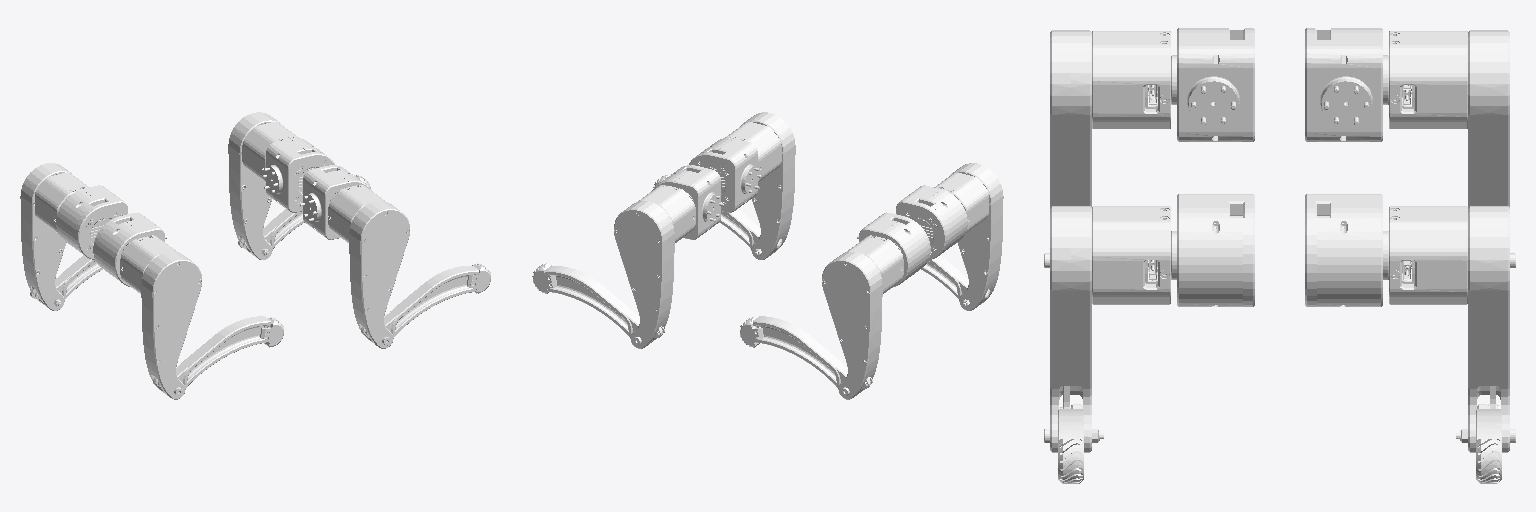
robot.urdf — htdw_4438:
<?xml version="1.0" encoding="utf-8"?>
<!-- 四足机器人URDF主文件 | 名称：htdw_4438 | 命名：fl前左/fr前右/rl后左/rr后右 | 肢体：hip髋/thigh大腿/calf小腿/foot脚 | 关节：revolute旋转/fixed固定 -->
<robot name="htdw_4438">
  <mujoco>
    <compiler 
      meshdir="[local-path]/Documents/GitHub/Lain_isaacgym/resources/robots/htdw_4438/meshes" 
      balanceinertia="true" 
      discardvisual="false" />
  </mujoco>
  <!-- 全局复用材质：白色不透明 -->
  <material name="white_material">
    <color rgba="1 1 1 1" />
  </material>

  <!-- 基座连杆：机器人核心躯干 -->
  <link name="base_link">
    <inertial>
      <origin xyz="-0.00139370 0.00012462 0.01353999" rpy="0 0 0" />
      <mass value="2.68214792" />
      <inertia ixx="0.00676934" ixy="-0.00002413" ixz="0.00027724" iyy="0.01195702" iyz="0.00003879" izz="0.01215361" />
    </inertial>
    <visual>
      <origin xyz="0 0 0" rpy="0 0 0" />
      <geometry>
        <mesh filename="../meshes/base_link_simple.STL" />
      </geometry>
      <material name="white_material" />
    </visual>
    <collision>
      <origin xyz="0 0 0.025" rpy="0 0 0" />
      <geometry>
        <box size="0.17 0.09 0.138" />
      </geometry>
    </collision>
  </link>

  <!-- 前左腿FL - 髋部：连杆+关节（基座→前左髋） -->
  <link name="fl_hip">
    <inertial>
      <origin xyz="0.03269580 0.00444394  -0.00009507" rpy="0 0 0" />
      <mass value="0.29235822" />
      <inertia ixx="0.00008921" ixy="-0.00004438" ixz="0.00000113" iyy="0.00040664" iyz="0.00000010" izz="0.00040549" />
    </inertial>
    <visual>
      <origin xyz="0 0 0" rpy="0 0 0" />
      <geometry>
        <mesh filename="../meshes/FL_hip.STL" />
      </geometry>
      <material name="white_material" />
    </visual>
    <collision>
      <origin xyz="0.035 0 0" rpy="1.56 1.56 0" />
      <geometry>
        <cylinder length="0.045" radius="0.03" />
      </geometry>
    </collision>
  </link>
  <joint name="fl_hip_joint" type="revolute">
    <origin xyz="0.0909 0.04 0" rpy="0 0 0" />
    <parent link="base_link" />
    <child link="fl_hip" />
    <axis xyz="1 0 0" />
    <limit lower="-0.9" upper="0.9" effort="10" velocity="9.95" initial="0"/>
  </joint>

  <!-- 前左腿FL - 大腿：连杆+关节（前左髋→前左大腿） -->
  <link name="fl_thigh">
    <inertial>
      <origin xyz="-0.00137569 0.03790927 -0.01165342" rpy="0 0 0" />
      <mass value="0.41040818" />
      <inertia ixx="0.00122480" ixy="0.00003407" ixz="-0.00003634" iyy="0.00056530" iyz="0.00028736" izz="0.00079023" />
    </inertial>
    <visual>
      <origin xyz="0 0 0" rpy="0 0 0" />
      <geometry>
        <mesh filename="../meshes/FL_thigh.STL" />
      </geometry>
      <material name="white_material" />
    </visual>
    <collision>
      <origin xyz="0.004 0.06 -0.045" rpy="0 0.35 0" />
      <geometry>
        <box size="0.02 0.025 0.10" />
      </geometry>
    </collision>
  </link>
  <joint name="fl_thigh_joint" type="revolute">
    <origin xyz="0.034 0.0254 0" rpy="0 0 0" />
    <parent link="fl_hip" />
    <child link="fl_thigh" />
    <axis xyz="0 1 0" />
    <limit lower="-1.5" upper="3.5" effort="10" velocity="9.95" initial="0.9"/>
  </joint>

  <!-- 前左腿FL - 小腿：连杆+关节（前左大腿→前左小腿） -->
  <link name="fl_calf">
    <inertial>
      <origin xyz="0.01082722 -0.00011477 -0.05285719" rpy="0 0 0" />
      <mass value="0.04033111" />
      <inertia ixx="0.00017694" ixy="0.00000005" ixz="0.00002974" iyy="0.00018413" iyz="0.00000004" izz="0.00000842" />
    </inertial>
    <visual>
      <origin xyz="0 0 0" rpy="0 0 0" />
      <geometry>
        <mesh filename="../meshes/FL_calf.STL" />
      </geometry>
      <material name="white_material" />
    </visual>
    <collision>
      <origin xyz="0.013 0 -0.05" rpy="0 -0.2 0" />
      <geometry>
        <cylinder length="0.1" radius="0.01" />
      </geometry>
    </collision>
  </link>
  <joint name="fl_calf_joint" type="revolute">
    <origin xyz="0 0.0604 -0.12" rpy="0 0 0" />
    <parent link="fl_thigh" />
    <child link="fl_calf" />
    <axis xyz="0 1 0" />
    <limit lower="-2.5" upper="-1.2" effort="10" velocity="9.95" initial="-1.8"/>
  </joint>

  <!-- 前左腿FL - 脚部：连杆+固定关节（前左小腿→前左脚） -->
  <link name="fl_foot">
    <inertial>
      <origin xyz="0.00384334 -0.00065935 0.01540433" rpy="0 0 0" />
      <mass value="0.00657865" />
      <inertia ixx="0.00000202" ixy="0.00000003" ixz="-0.00000043" iyy="0.00000222" iyz="0.00000009" izz="0.00000049" />
    </inertial>
    <visual>
      <origin xyz="0 0 0" rpy="0 0 0" />
      <geometry>
        <mesh filename="../meshes/FL_foot.STL" />
      </geometry>
      <material name="white_material" />
    </visual>
    <collision>
      <origin xyz="0.0025 0 0.0127" rpy="0 0 0" />
      <geometry>
        <sphere radius="0.015" />
      </geometry>
    </collision>
  </link>
  <joint name="fl_foot_joint" type="fixed" dont_collapse="true">
    <origin xyz="0.00206 0.00006 -0.13694" rpy="0 0 0" />
    <parent link="fl_calf" />
    <child link="fl_foot" />
  </joint>

  <!-- 前右腿FR - 髋部：连杆+关节（基座→前右髋） -->
  <link name="fr_hip">
    <inertial>
      <origin xyz="0.03269580 -0.00444394 0.00009507" rpy="0 0 0" />
      <mass value="0.29235822" />
      <inertia ixx="0.00008921" ixy="0.00004438" ixz="-0.00000113" iyy="0.00040664" iyz="0.00000010" izz="0.00040549" />
    </inertial>
    <visual>
      <origin xyz="0 0 0" rpy="0 0 0" />
      <geometry>
        <mesh filename="../meshes/FR_hip.STL" />
      </geometry>
      <material name="white_material" />
    </visual>
    <collision>
      <origin xyz="0.035 0 0" rpy="1.56 1.56 0" />
      <geometry>
        <cylinder length="0.045" radius="0.03" />
      </geometry>
    </collision>
  </link>
  <joint name="fr_hip_joint" type="revolute">
    <origin xyz="0.0909 -0.04 0" rpy="0 0 0" />
    <parent link="base_link" />
    <child link="fr_hip" />
    <axis xyz="1 0 0" />
    <limit lower="-0.9" upper="0.9" effort="10" velocity="9.95" initial="0.0"/>
  </joint>

  <!-- 前右腿FR - 大腿：连杆+关节（前右髋→前右大腿） -->
  <link name="fr_thigh">
    <inertial>
      <origin xyz="-0.00130371 -0.03791280 -0.01155686" rpy="0 0 0" />
      <mass value="0.41040818" />
      <inertia ixx="0.00122504" ixy="-0.00003226" ixz="-0.00003331" iyy="0.00056452" iyz="-0.00028624" izz="0.00078957" />
    </inertial>
    <visual>
      <origin xyz="0 0 0" rpy="0 0 0" />
      <geometry>
        <mesh filename="../meshes/FR_thigh.STL" />
      </geometry>
      <material name="white_material" />
    </visual>
    <collision>
      <origin xyz="0.004 -0.06 -0.045" rpy="0 0.35 0" />
      <geometry>
        <box size="0.02 0.025 0.10" />
      </geometry>
    </collision>
  </link>
  <joint name="fr_thigh_joint" type="revolute">
    <origin xyz="0.034 -0.0254 0" rpy="0 0 0" />
    <parent link="fr_hip" />
    <child link="fr_thigh" />
    <axis xyz="0 1 0" />
    <limit lower="-1.5" upper="3.5" effort="10" velocity="9.95" initial="0.9"/>
  </joint>

  <!-- 前右腿FR - 小腿：连杆+关节（前右大腿→前右小腿） -->
  <link name="fr_calf">
    <inertial>
      <origin xyz="0.01085394 0.00011547 -0.05299045" rpy="0 0 0" />
      <mass value="0.04033111" />
      <inertia ixx="0.00017737" ixy="-0.00000005" ixz="0.00002982" iyy="0.00018459" iyz="-0.00000004" izz="0.00000843" />
    </inertial>
    <visual>
      <origin xyz="0 0 0" rpy="0 0 0" />
      <geometry>
        <mesh filename="../meshes/FR_calf.STL" />
      </geometry>
      <material name="white_material" />
    </visual>
    <collision>
      <origin xyz="0.013 0 -0.05" rpy="0 -0.2 0" />
      <geometry>
        <cylinder length="0.1" radius="0.01" />
      </geometry>
    </collision>
  </link>
  <joint name="fr_calf_joint" type="revolute">
    <origin xyz="0 -0.0604 -0.12" rpy="0 0 0" />
    <parent link="fr_thigh" />
    <child link="fr_calf" />
    <axis xyz="0 1 0" />
    <limit lower="-2.5" upper="-1.2" effort="10" velocity="9.95" initial="-1.8"/>
  </joint>

  <!-- 前右腿FR - 脚部：连杆+固定关节（前右小腿→前右脚） -->
  <link name="fr_foot">
    <inertial>
      <origin xyz="0.00384334 -0.00065935 0.01540433" rpy="0 0 0" />
      <mass value="0.00657865" />
      <inertia ixx="0.00000202" ixy="0.00000003" ixz="-0.00000043" iyy="0.00000222" iyz="0.00000009" izz="0.00000049" />
    </inertial>
    <visual>
      <origin xyz="0 0 0" rpy="0 0 0" />
      <geometry>
        <mesh filename="../meshes/FR_foot.STL" />
      </geometry>
      <material name="white_material" />
    </visual>
    <collision>
      <origin xyz="0.0025 0 0.0127" rpy="0 0 0" />
      <geometry>
        <sphere radius="0.015" />
      </geometry>
    </collision>
  </link>
  <joint name="fr_foot_joint" type="fixed" dont_collapse="true">
    <origin xyz="0.00206 0.00006 -0.13694" rpy="0 0 0" />
    <parent link="fr_calf" />
    <child link="fr_foot" />
  </joint>

  <!-- 后左腿RL - 髋部：连杆+关节（基座→后左髋） -->
  <link name="rl_hip">
    <inertial>
      <origin xyz="-0.03269580 0.00444394 0.00009507" rpy="0 0 0" />
      <mass value="0.29235822" />
      <inertia ixx="0.00008921" ixy="0.00004438" ixz="0.00000113" iyy="0.00040664" iyz="-0.00000010" izz="0.00040549" />
    </inertial>
    <visual>
      <origin xyz="0 0 0" rpy="0 0 0" />
      <geometry>
        <mesh filename="../meshes/RL_hip.STL" />
      </geometry>
      <material name="white_material" />
    </visual>
    <collision>
      <origin xyz="-0.035 0 0" rpy="1.56 1.56 0" />
      <geometry>
        <cylinder length="0.045" radius="0.03" />
      </geometry>
    </collision>
  </link>
  <joint name="rl_hip_joint" type="revolute">
    <origin xyz="-0.0909 0.04 0" rpy="0 0 0" />
    <parent link="base_link" />
    <child link="rl_hip" />
    <axis xyz="1 0 0" />
    <limit lower="-0.9" upper="0.9" effort="10" velocity="9.95" initial="0"/>
  </joint>

  <!-- 后左腿RL - 大腿：连杆+关节（后左髋→后左大腿） -->
  <link name="rl_thigh">
    <inertial>
      <origin xyz="-0.00137569 0.03790927 -0.01165342" rpy="0 0 0" />
      <mass value="0.41040818" />
      <inertia ixx="0.00122480" ixy="0.00003407" ixz="-0.00003634" iyy="0.00056530" iyz="0.00028736" izz="0.00079023" />
    </inertial>
    <visual>
      <origin xyz="0 0 0" rpy="0 0 0" />
      <geometry>
        <mesh filename="../meshes/RL_thigh.STL" />
      </geometry>
      <material name="white_material" />
    </visual>
    <collision>
      <origin xyz="0.004 0.06 -0.045" rpy="0 0.35 0" />
      <geometry>
        <box size="0.02 0.025 0.10" />
      </geometry>
    </collision>
  </link>
  <joint name="rl_thigh_joint" type="revolute">
    <origin xyz="-0.034 0.0254 0" rpy="0 0 0" />
    <parent link="rl_hip" />
    <child link="rl_thigh" />
    <axis xyz="0 1 0" />
    <limit lower="-1.5" upper="3.5" effort="10" velocity="9.95" initial="0.9"/>
  </joint>

  <!-- 后左腿RL - 小腿：连杆+关节（后左大腿→后左小腿） -->
  <link name="rl_calf">
    <inertial>
      <origin xyz="0.01082722 -0.00011477 -0.05285719" rpy="0 0 0" />
      <mass value="0.04033111" />
      <inertia ixx="0.00017694" ixy="0.00000005" ixz="0.00002974" iyy="0.00018413" iyz="0.00000004" izz="0.00000842" />
    </inertial>
    <visual>
      <origin xyz="0 0 0" rpy="0 0 0" />
      <geometry>
        <mesh filename="../meshes/RL_calf.STL" />
      </geometry>
      <material name="white_material" />
    </visual>
    <collision>
      <origin xyz="0.013 0 -0.05" rpy="0 -0.2 0" />
      <geometry>
        <cylinder length="0.1" radius="0.01" />
      </geometry>
    </collision>
  </link>
  <joint name="rl_calf_joint" type="revolute">
    <origin xyz="0 0.0604 -0.12" rpy="0 0 0" />
    <parent link="rl_thigh" />
    <child link="rl_calf" />
    <axis xyz="0 1 0" />
    <limit lower="-2.5" upper="-1.2" effort="10" velocity="9.95" initial="-1.8"/>
  </joint>

  <!-- 后左腿RL - 脚部：连杆+固定关节（后左小腿→后左脚） -->
  <link name="rl_foot">
    <inertial>
      <origin xyz="0.00384334 -0.00065935 0.01540433" rpy="0 0 0" />
      <mass value="0.00657865" />
      <inertia ixx="0.00000202" ixy="0.00000003" ixz="-0.00000043" iyy="0.00000222" iyz="0.00000009" izz="0.00000049" />
    </inertial>
    <visual>
      <origin xyz="0 0 0" rpy="0 0 0" />
      <geometry>
        <mesh filename="../meshes/RL_foot.STL" />
      </geometry>
      <material name="white_material" />
    </visual>
    <collision>
      <origin xyz="0.0025 0 0.0127" rpy="0 0 0" />
      <geometry>
        <sphere radius="0.015" />
      </geometry>
    </collision>
  </link>
  <joint name="rl_foot_joint" type="fixed" dont_collapse="true">
    <origin xyz="-0.00206 0.00006 -0.13694" rpy="0 0 0" />
    <parent link="rl_calf" />
    <child link="rl_foot" />
  </joint>

  <!-- 后右腿RR - 髋部：连杆+关节（基座→后右髋） -->
  <link name="rr_hip">
    <inertial>
      <origin xyz="-0.03269580 -0.00444394 -0.00009507" rpy="0 0 0" />
      <mass value="0.29235822" />
      <inertia ixx="0.00008921" ixy="-0.00004438" ixz="-0.00000113" iyy="0.00040664" iyz="-0.00000010" izz="0.00040549" />
    </inertial>
    <visual>
      <origin xyz="0 0 0" rpy="0 0 0" />
      <geometry>
        <mesh filename="../meshes/RR_hip.STL" />
      </geometry>
      <material name="white_material" />
    </visual>
    <collision>
      <origin xyz="-0.035 0 0" rpy="1.56 1.56 0" />
      <geometry>
        <cylinder length="0.045" radius="0.03" />
      </geometry>
    </collision>
  </link>
  <joint name="rr_hip_joint" type="revolute">
    <origin xyz="-0.0909 -0.04 0" rpy="0 0 0" />
    <parent link="base_link" />
    <child link="rr_hip" />
    <axis xyz="1 0 0" />
    <limit lower="-0.9" upper="0.9" effort="10" velocity="9.95" initial="0"/>
  </joint>

  <!-- 后右腿RR - 大腿：连杆+关节（后右髋→后右大腿） -->
  <link name="rr_thigh">
    <inertial>
      <origin xyz="-0.00130371 -0.03791280 -0.01155686" rpy="0 0 0" />
      <mass value="0.41040818" />
      <inertia ixx="0.00122504" ixy="-0.00003226" ixz="-0.00003331" iyy="0.00056452" iyz="-0.00028624" izz="0.00078957" />
    </inertial>
    <visual>
      <origin xyz="0 0 0" rpy="0 0 0" />
      <geometry>
        <mesh filename="../meshes/RR_thigh.STL" />
      </geometry>
      <material name="white_material" />
    </visual>
    <collision>
      <origin xyz="0.004 -0.06 -0.045" rpy="0 0.35 0" />
      <geometry>
        <box size="0.02 0.025 0.10" />
      </geometry>
    </collision>
  </link>
  <joint name="rr_thigh_joint" type="revolute">
    <origin xyz="-0.034 -0.0254 0" rpy="0 0 0" />
    <parent link="rr_hip" />
    <child link="rr_thigh" />
    <axis xyz="0 1 0" />
    <limit lower="-1.5" upper="3.5" effort="10" velocity="9.95" initial="0.9"/>
  </joint>

  <!-- 后右腿RR - 小腿：连杆+关节（后右大腿→后右小腿） -->
  <link name="rr_calf">
    <inertial>
      <origin xyz="0.01085394 0.00011547 -0.05299045" rpy="0 0 0" />
      <mass value="0.04033111" />
      <inertia ixx="0.00017737" ixy="-0.00000005" ixz="0.00002982" iyy="0.00018459" iyz="-0.00000004" izz="0.00000843" />
    </inertial>
    <visual>
      <origin xyz="0 0 0" rpy="0 0 0" />
      <geometry>
        <mesh filename="../meshes/RR_calf.STL" />
      </geometry>
      <material name="white_material" />
    </visual>
    <collision>
      <origin xyz="0.013 0 -0.05" rpy="0 -0.2 0" />
      <geometry>
        <cylinder length="0.1" radius="0.01" />
      </geometry>
    </collision>
  </link>
  <joint name="rr_calf_joint" type="revolute">
    <origin xyz="0 -0.0604 -0.12" rpy="0 0 0" />
    <parent link="rr_thigh" />
    <child link="rr_calf" />
    <axis xyz="0 1 0" />
    <limit lower="-2.5" upper="-1.2" effort="10" velocity="9.95" initial="-1.8"/>
  </joint>

  <!-- 后右腿RR - 脚部：连杆+固定关节（后右小腿→后右脚） -->
  <link name="rr_foot">
    <inertial>
      <origin xyz="0.00384334 -0.00065935 0.01540433" rpy="0 0 0" />
      <mass value="0.00657865" />
      <inertia ixx="0.00000202" ixy="0.00000003" ixz="-0.00000043" iyy="0.00000222" iyz="0.00000009" izz="0.00000049" />
    </inertial>
    <visual>
      <origin xyz="0 0 0" rpy="0 0 0" />
      <geometry>
        <mesh filename="../meshes/RR_foot.STL" />
      </geometry>
      <material name="white_material" />
    </visual>
    <collision>
      <origin xyz="0.0025 0 0.0127" rpy="0 0 0" />
      <geometry>
        <sphere radius="0.015" />
      </geometry>
    </collision>
  </link>
  <joint name="rr_foot_joint" type="fixed" dont_collapse="true">
    <origin xyz="-0.00206 0.00006 -0.13694" rpy="0 0 0" />
    <parent link="rr_calf" />
    <child link="rr_foot" />
  </joint>

</robot>

--- Facts derived from the render (not from the file) ---
3 views of the same robot in one strip: view 1: azimuth 30°, elevation 25°; view 2: azimuth 150°, elevation 25°; view 3: azimuth 270°, elevation 25° (orthographic).
Model htdw_4438 with 17 links and 16 joints (12 revolute, 4 fixed), rooted at base_link, posed all joints at 0 but 4 set to mid-range because 0 is outside their limits (fl_calf_joint = -1.85, fr_calf_joint = -1.85, rl_calf_joint = -1.85, rr_calf_joint = -1.85).
Visible links, largest first — view 1: fr_thigh, rr_thigh, rl_thigh, fl_thigh, fl_hip, rl_hip, rr_calf, fr_calf, fr_hip, rr_hip, rl_calf, fl_calf; view 2: fl_thigh, rl_thigh, rr_thigh, fr_thigh, fr_hip, rr_hip, rl_calf, fl_calf, fl_hip, rl_hip, rr_calf, fr_calf; view 3: fl_thigh, fr_thigh, rl_thigh, rr_thigh, rl_hip, rr_hip, fl_hip, fr_hip, fl_foot, fr_foot, fl_calf, fr_calf.
Boxes of the visible links, left/top/right/bottom form: fr_thigh: left=328, top=185, right=409, bottom=348; rr_thigh: left=120, top=235, right=201, bottom=399; rl_thigh: left=20, top=163, right=89, bottom=310; fl_thigh: left=228, top=112, right=298, bottom=259; fl_hip: left=263, top=138, right=334, bottom=212; rl_hip: left=56, top=185, right=127, bottom=259; rr_calf: left=153, top=316, right=270, bottom=395; fr_calf: left=361, top=266, right=478, bottom=345; fr_hip: left=300, top=165, right=371, bottom=239; rr_hip: left=93, top=212, right=166, bottom=286; rl_calf: left=35, top=255, right=102, bottom=304; fl_calf: left=243, top=209, right=304, bottom=255; fl_thigh: left=614, top=185, right=695, bottom=348; rl_thigh: left=822, top=235, right=903, bottom=399; rr_thigh: left=934, top=163, right=1003, bottom=310; fr_thigh: left=725, top=112, right=795, bottom=259; fr_hip: left=689, top=138, right=760, bottom=212; rr_hip: left=896, top=185, right=967, bottom=259; rl_calf: left=753, top=316, right=870, bottom=395; fl_calf: left=545, top=266, right=662, bottom=345; fl_hip: left=652, top=165, right=723, bottom=239; rl_hip: left=857, top=212, right=930, bottom=286; rr_calf: left=921, top=255, right=988, bottom=304; fr_calf: left=719, top=209, right=780, bottom=255; fl_thigh: left=1389, top=206, right=1515, bottom=452; fr_thigh: left=1044, top=206, right=1170, bottom=452; rl_thigh: left=1389, top=30, right=1515, bottom=267; rr_thigh: left=1044, top=30, right=1170, bottom=267; rl_hip: left=1305, top=28, right=1388, bottom=141; rr_hip: left=1171, top=28, right=1254, bottom=141; fl_hip: left=1305, top=194, right=1388, bottom=306; fr_hip: left=1171, top=194, right=1254, bottom=306; fl_foot: left=1476, top=439, right=1501, bottom=483; fr_foot: left=1058, top=439, right=1083, bottom=483; fl_calf: left=1476, top=404, right=1501, bottom=439; fr_calf: left=1058, top=404, right=1083, bottom=439.
Bounding box of the posed robot: 0.4122 × 0.2836 × 0.1612 m (x, y, z).
16 mesh visuals loaded from 17 distinct referenced files (16 binary STL); not drawn: 1 (reference not matched to a file when rendering).
